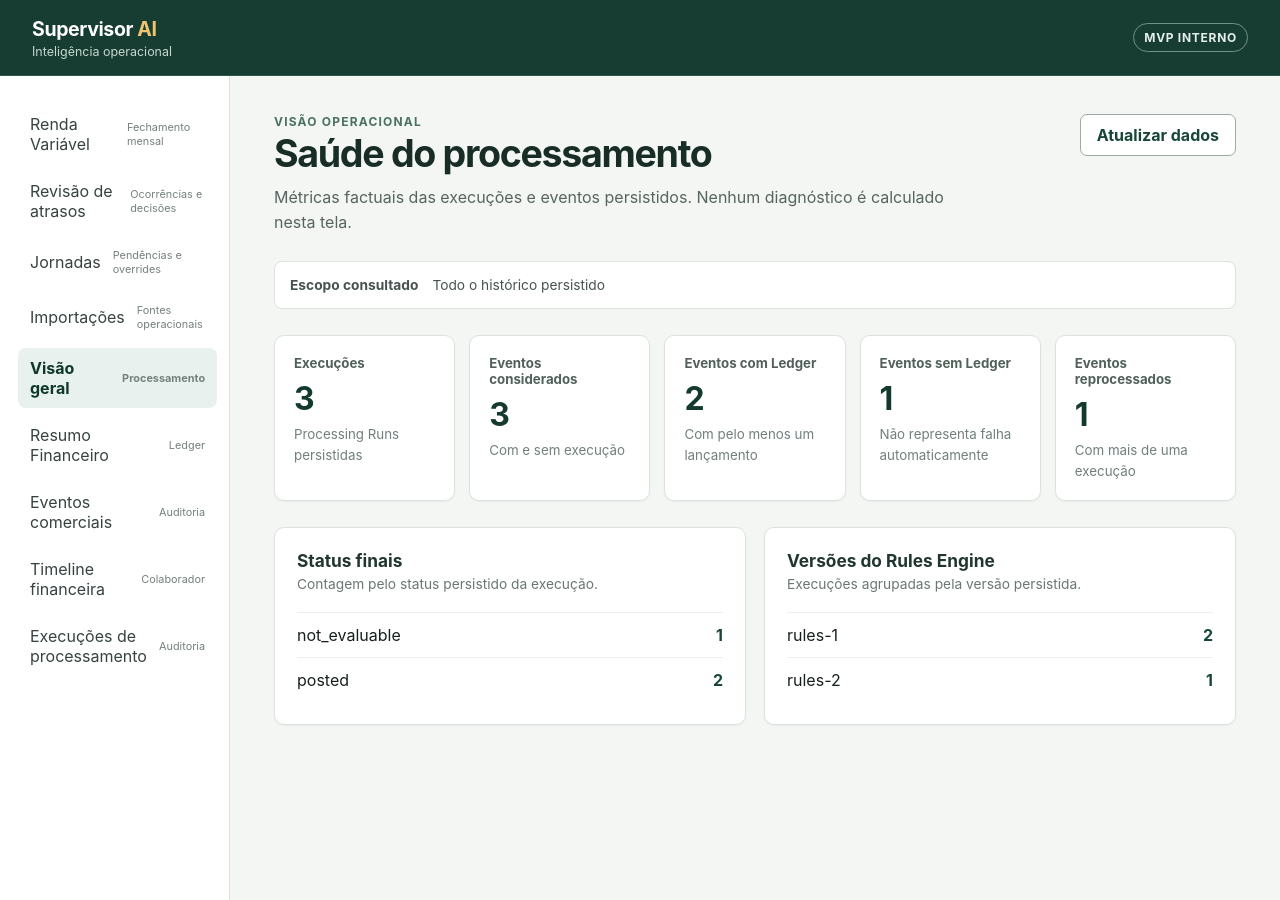
Test: operational import navigation uses React Router and renders directly
What coordinates should you click on to do the following:
click the link "Importações Fontes operacionais"
I would click on:
 (116, 317)
Its box is [30,303,203,331].
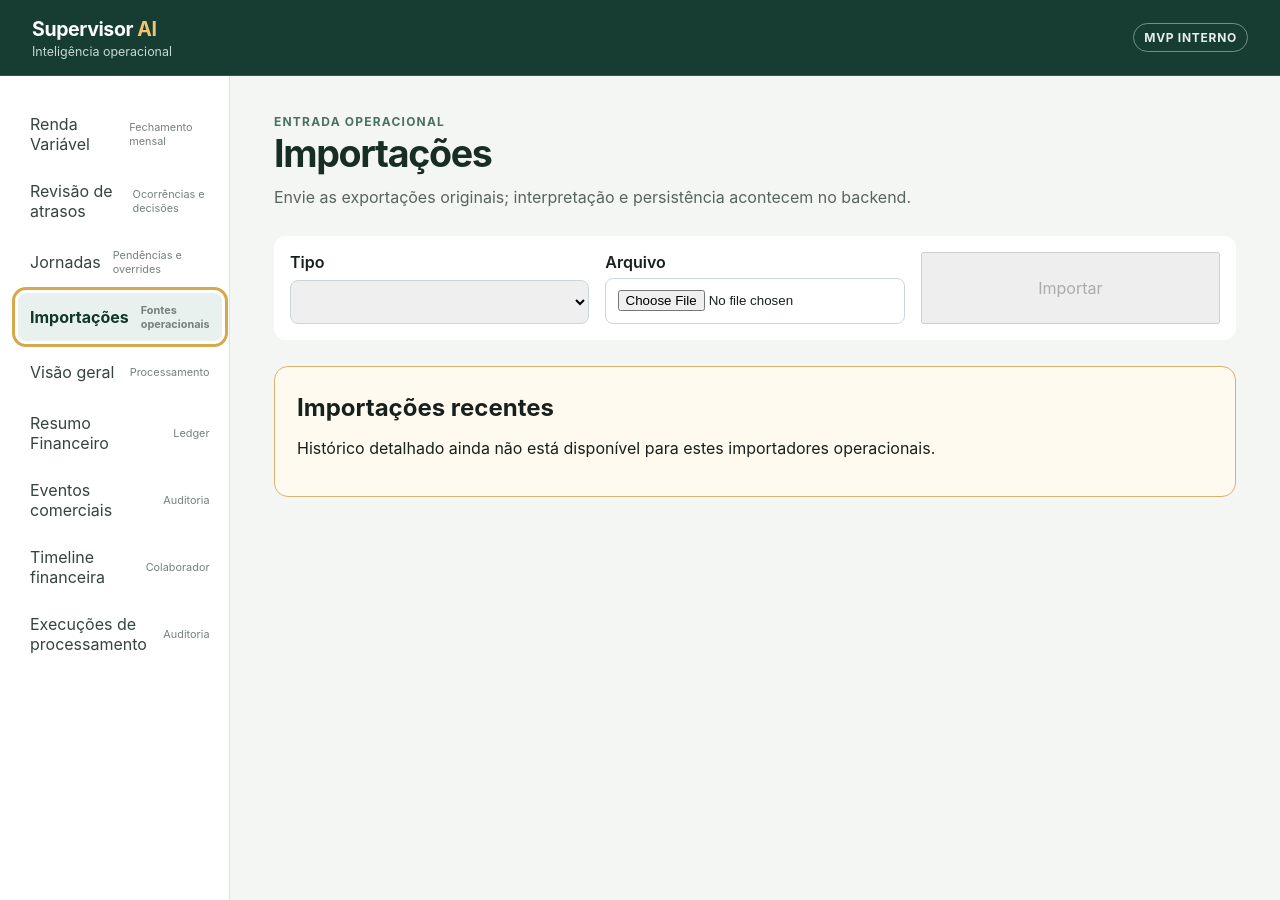
Check: the heading "Importações" is shown, box [274,131,492,176]
